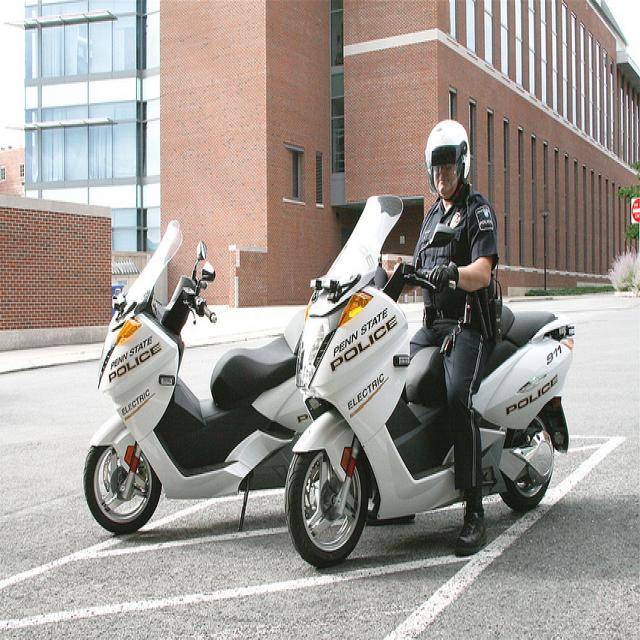motor: (285, 195, 574, 568), (82, 211, 311, 534)
